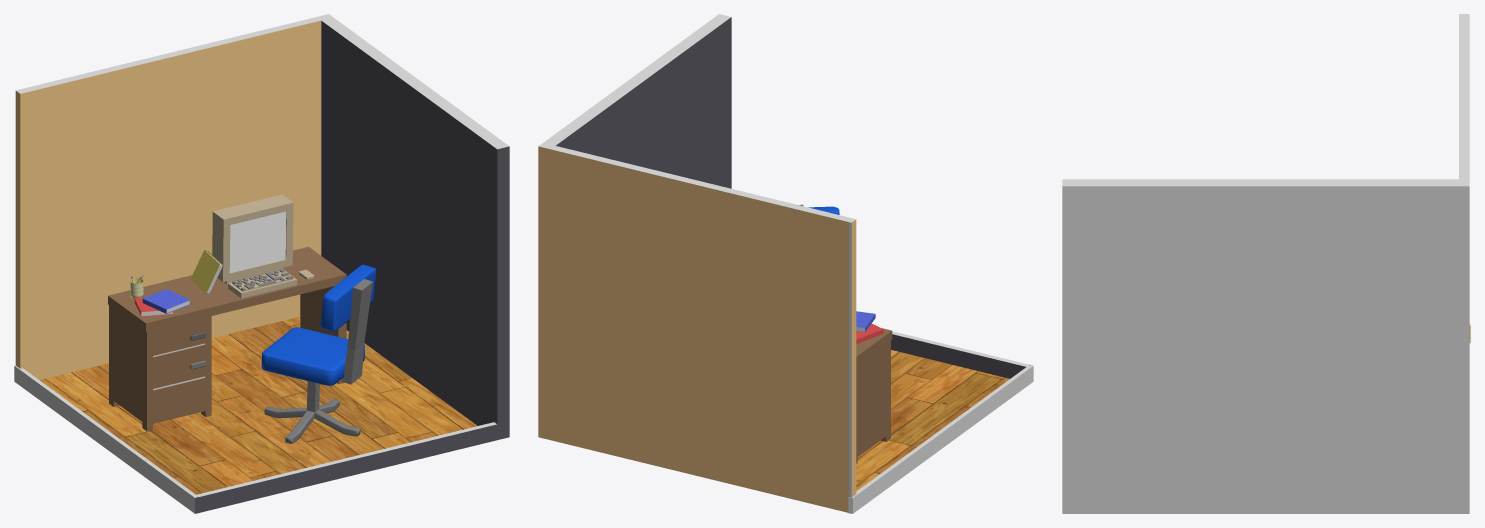
Rendered from ofimatica1.glb.
3 renders of one model, left to right at view 1: azimuth 30°, elevation 25°; view 2: azimuth 150°, elevation 25°; view 3: azimuth 270°, elevation 25°, orthographic. The views are drawn at different scales.
Visible parts, largest first — view 1: Cube.003, Cube.004, Cube.007, Cube.011, Cube.012, Cube.002, Cube.001; view 2: Cube.003, Cube.004; view 3: Cube.003.
Part boxes in pixels (x1,y1,x2,y2): Cube.003: (14,14,509,513); Cube.004: (108,246,346,431); Cube.007: (261,264,376,443); Cube.011: (212,194,293,284); Cube.012: (228,269,297,298); Cube.002: (190,250,223,293); Cube.001: (142,289,190,313); Cube.003: (538,14,1033,513); Cube.004: (856,328,892,463); Cube.003: (1062,14,1470,513).
Bounding box in the file's own units: 3.76 × 3.32 × 3.75.
30 materials, 1 textured.
